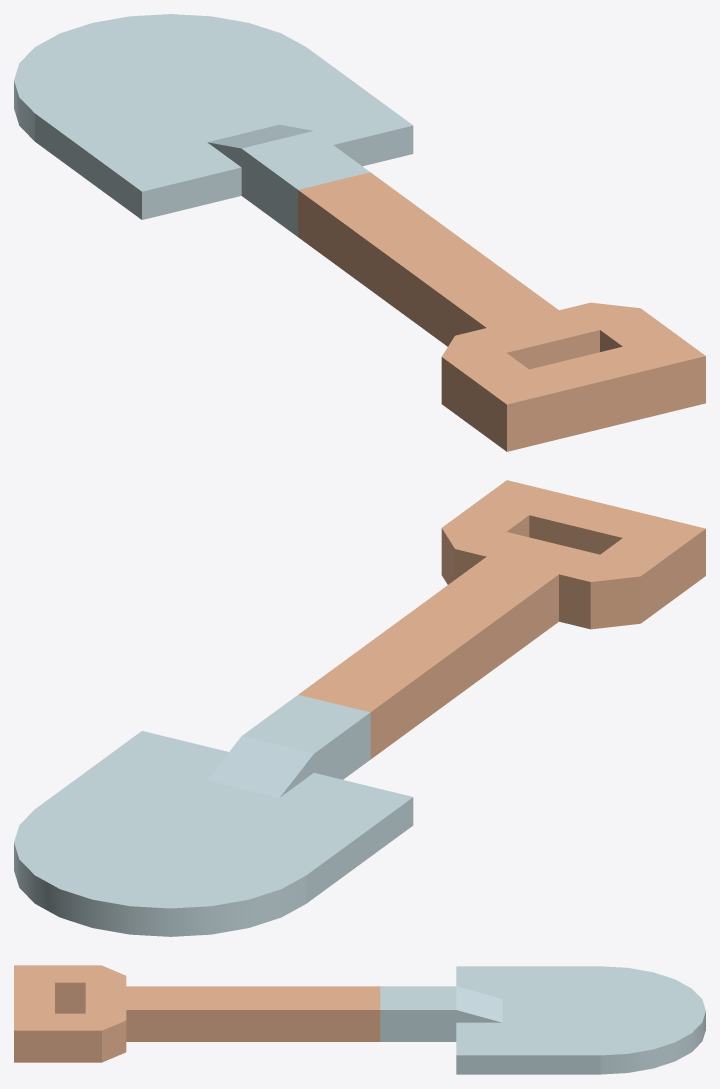
Rendered from shovel.glb.
3 renders of one model, top to bottom at view 1: azimuth 30°, elevation 25°; view 2: azimuth 150°, elevation 25°; view 3: azimuth 270°, elevation 25°, orthographic. The views are drawn at different scales.
Parts seen in each view (by area): view 1: shovel; view 2: shovel; view 3: shovel.
Part boxes in pixels (box(x1,y1,x2,y2)): shovel: box(14, 14, 705, 451); shovel: box(14, 480, 705, 936); shovel: box(14, 965, 705, 1074).
Bounding box in the file's own units: 0.192 × 0.032 × 0.63.
